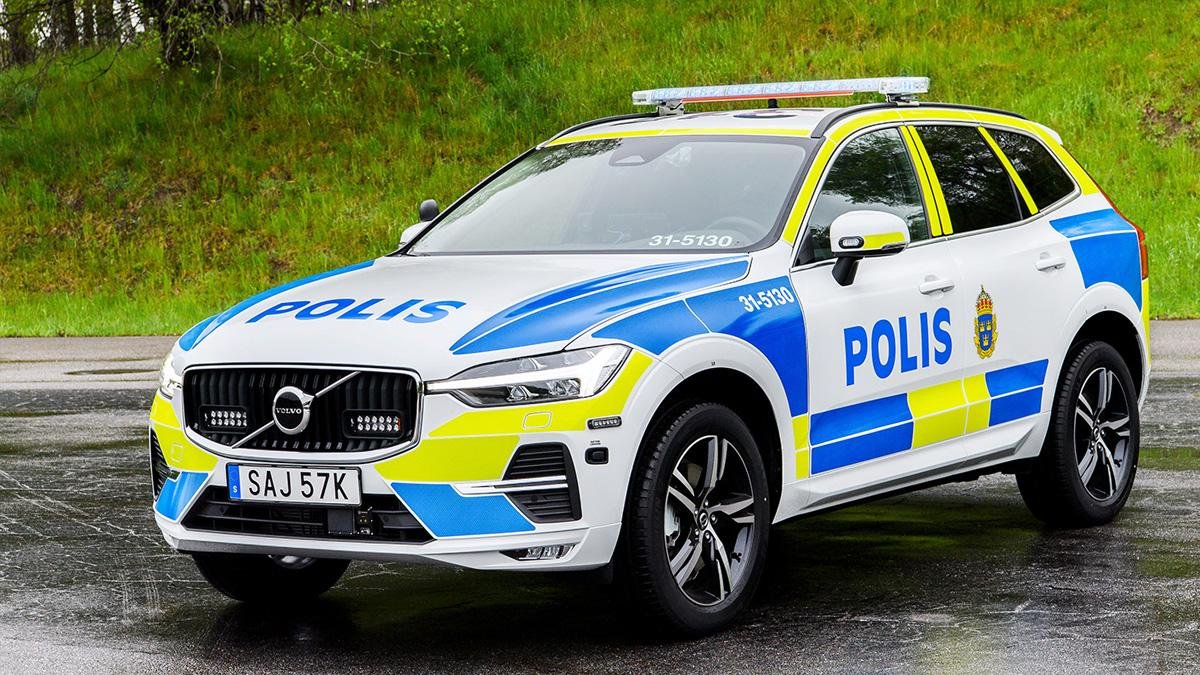license-plates: (226, 463, 365, 510)
